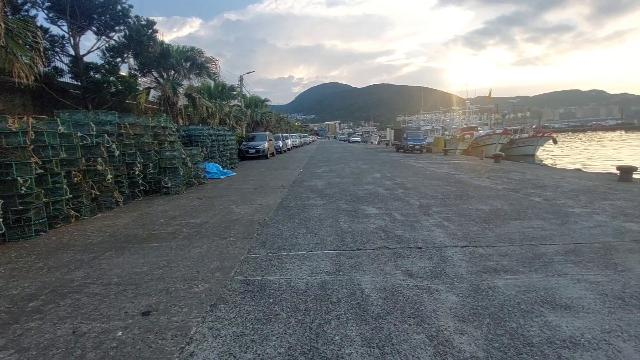pollute: (199, 162, 236, 181)
